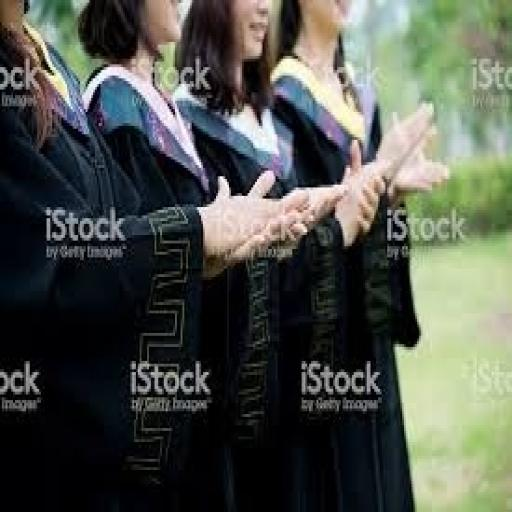clapping: (0, 0, 365, 509), (266, 0, 441, 509)
